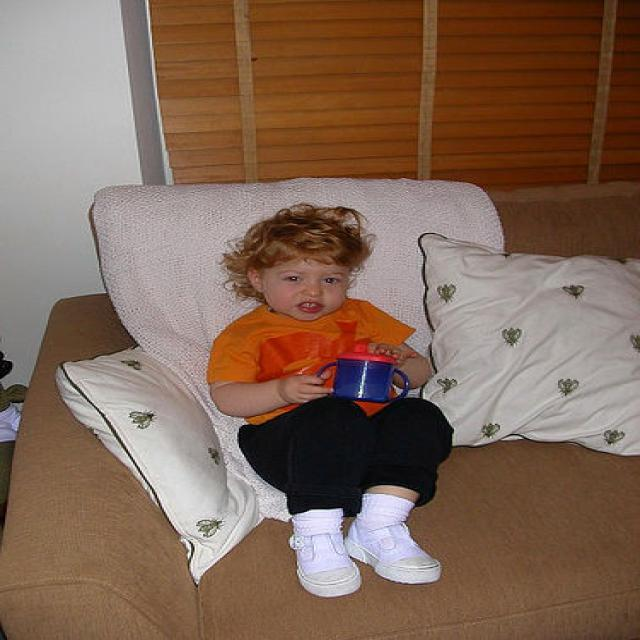child: (206, 200, 457, 596)
